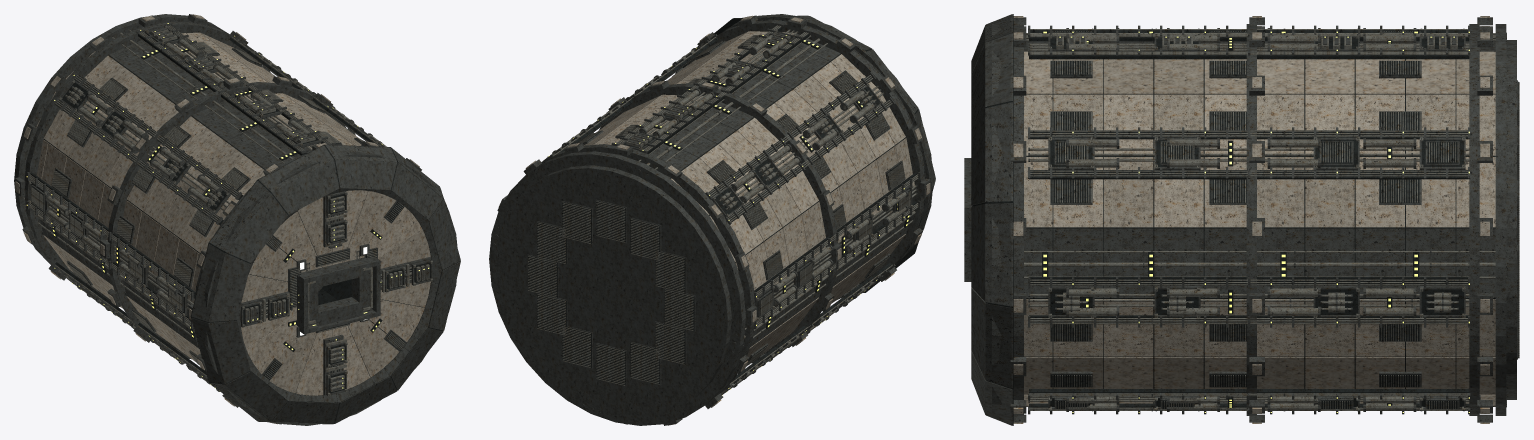
The model's file is trade-drum.glb.
3 renders of one model, left to right at view 1: azimuth 30°, elevation 25°; view 2: azimuth 150°, elevation 25°; view 3: azimuth 270°, elevation 25°, orthographic. The views are drawn at different scales.
Visible parts, largest first — view 1: static/cladding-dark-structure, static/dark-structure, static/machined-alloy, static/cladding-armour-2, static/cladding-armour-0, static/recess-black, static/cladding-armour-1, static/cladding-armour-3, static/plate-backing, static/armour-1, static/amber-lamp; view 2: static/dark-structure, static/machined-alloy, static/recess-black, static/cladding-armour-2, static/cladding-dark-structure, static/cladding-armour-0, static/cladding-armour-1, static/cladding-armour-3, static/armour-1, static/plate-backing; view 3: static/machined-alloy, static/dark-structure, static/cladding-dark-structure, static/recess-black, static/cladding-armour-0, static/cladding-armour-2, static/cladding-armour-3, static/cladding-armour-1, static/plate-backing, static/armour-1, static/amber-lamp.
Part boxes in pixels (box(x1,y1,x2,y2)): static/cladding-dark-structure: box(40, 40, 460, 424); static/dark-structure: box(14, 14, 457, 425); static/machined-alloy: box(23, 25, 434, 396); static/cladding-armour-2: box(36, 36, 424, 395); static/cladding-armour-0: box(49, 36, 430, 392); static/recess-black: box(30, 28, 430, 393); static/cladding-armour-1: box(67, 32, 430, 377); static/cladding-armour-3: box(36, 50, 421, 389); static/plate-backing: box(43, 55, 460, 423); static/armour-1: box(15, 14, 446, 424); static/amber-lamp: box(26, 23, 429, 388); static/dark-structure: box(489, 14, 932, 425); static/machined-alloy: box(528, 25, 918, 394); static/recess-black: box(528, 27, 917, 385); static/cladding-armour-2: box(584, 53, 894, 343); static/cladding-dark-structure: box(650, 15, 935, 347); static/cladding-armour-0: box(585, 39, 901, 357); static/cladding-armour-1: box(607, 31, 914, 354); static/cladding-armour-3: box(597, 31, 905, 290); static/armour-1: box(499, 15, 930, 425); static/plate-backing: box(517, 16, 932, 416); static/machined-alloy: box(1024, 29, 1519, 410); static/dark-structure: box(964, 17, 1517, 422); static/cladding-dark-structure: box(971, 14, 1495, 425); static/recess-black: box(1029, 30, 1518, 408); static/cladding-armour-0: box(1053, 59, 1495, 403); static/cladding-armour-2: box(1024, 59, 1495, 405); static/cladding-armour-3: box(1024, 51, 1495, 388); static/cladding-armour-1: box(1024, 51, 1495, 403); static/plate-backing: box(972, 14, 1495, 425); static/armour-1: box(1013, 16, 1489, 423); static/amber-lamp: box(1043, 31, 1469, 412).
Size of the model in its own units: 780 by 780 by 1047.
9 materials, 7 textured.
